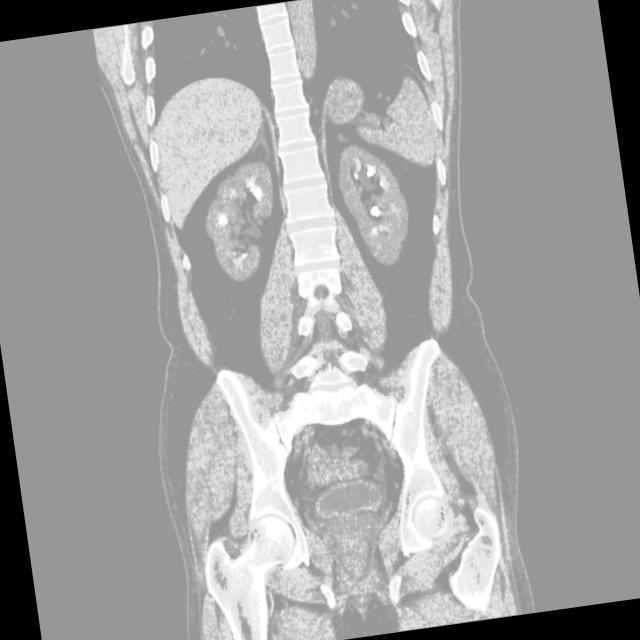STONE: (172, 106, 486, 314)
